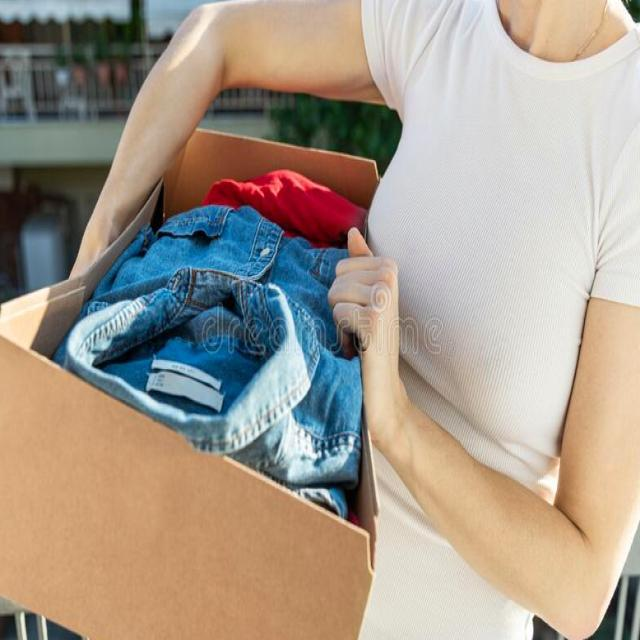clothes: (112, 148, 329, 497)
